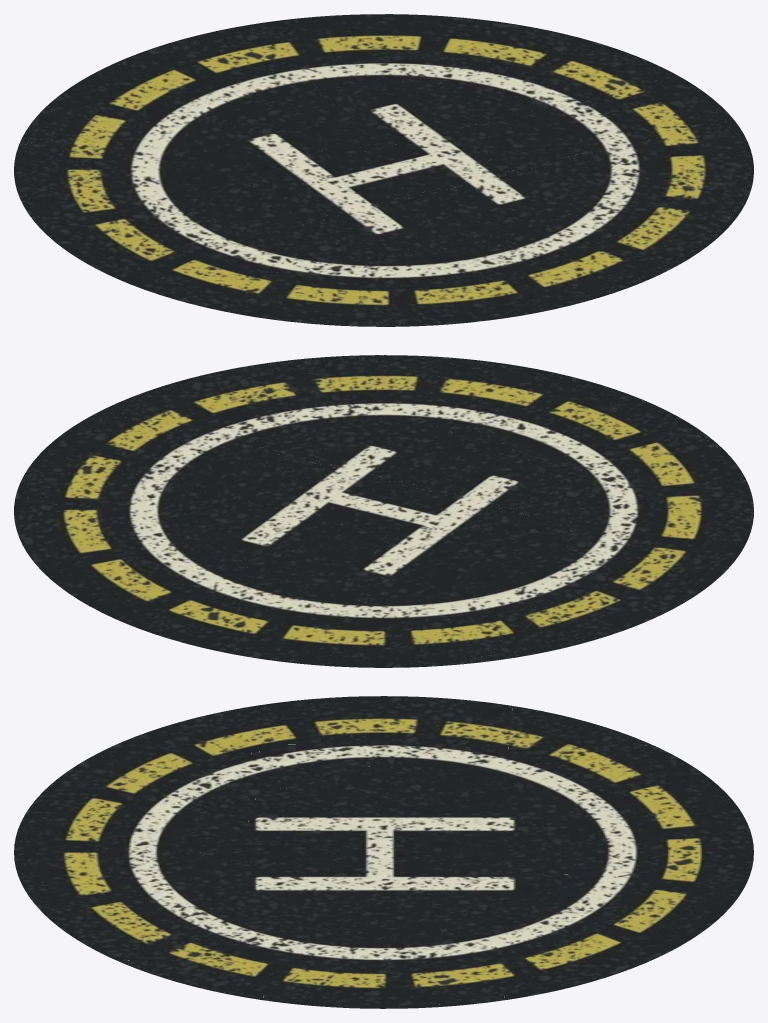
File: helipad_circle-transformed.glb
3 views of the same model, one above another, from view 1: azimuth 30°, elevation 25°; view 2: azimuth 150°, elevation 25°; view 3: azimuth 270°, elevation 25° (orthographic).
Visible parts, largest first — view 1: Screenshot 2022-06-09 at 16-51-21 Wall Mural Helicopter lan_ (×7); view 2: Screenshot 2022-06-09 at 16-51-21 Wall Mural Helicopter lan_ (×7); view 3: Screenshot 2022-06-09 at 16-51-21 Wall Mural Helicopter lan_ (×7).
Part boxes in pixels (bbox=[...]): Screenshot 2022-06-09 at 16-51-21 Wall Mural Helicopter lan_ (×7): bbox=[14, 14, 753, 326]; Screenshot 2022-06-09 at 16-51-21 Wall Mural Helicopter lan_ (×7): bbox=[14, 355, 753, 667]; Screenshot 2022-06-09 at 16-51-21 Wall Mural Helicopter lan_ (×7): bbox=[14, 696, 753, 1008].
Bounding box in the file's own units: 17.26 × 0.0155 × 17.26.
1 material, 1 textured.
